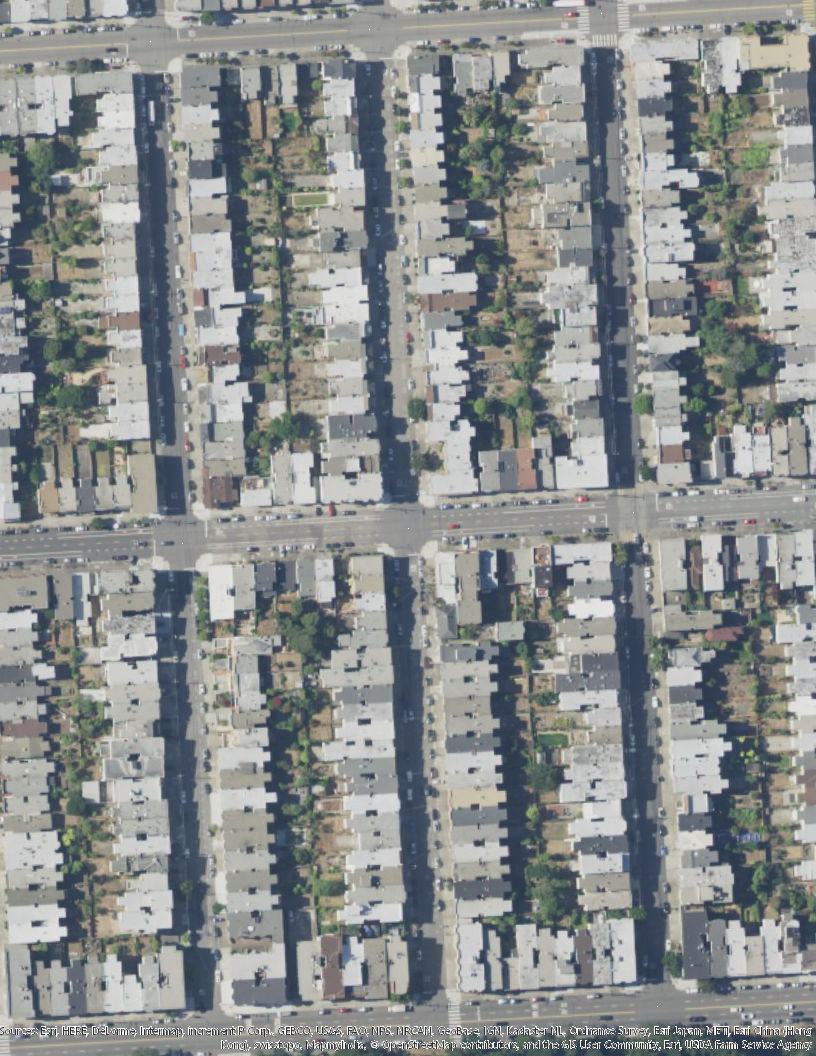zebracross: (448, 1002, 464, 1047), (614, 1, 632, 34), (577, 4, 592, 35), (591, 32, 619, 48), (800, 1, 815, 23), (1, 1033, 12, 1056)
